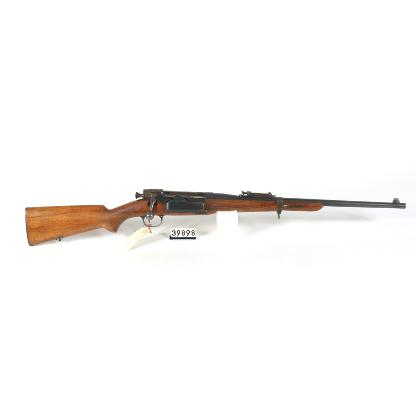gun: (25, 188, 402, 246)
